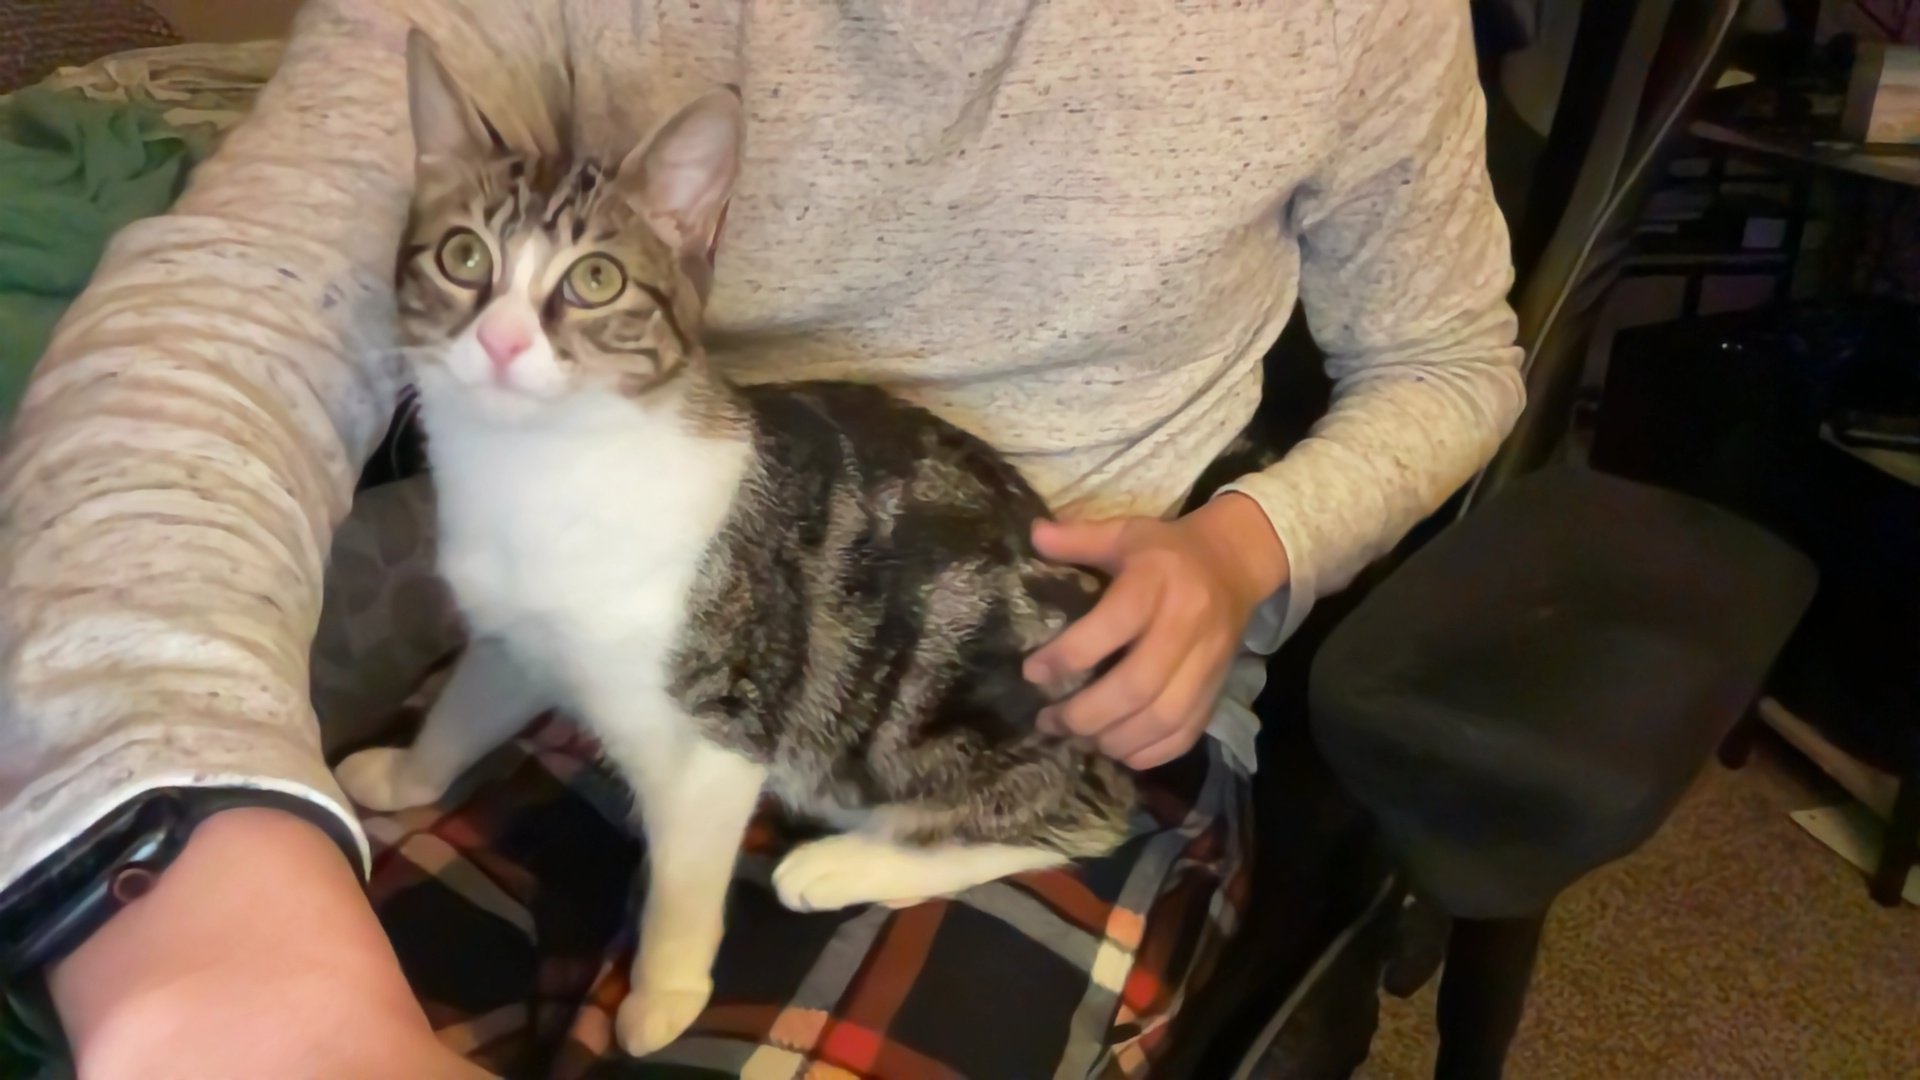cat: (330, 40, 1150, 1047)
